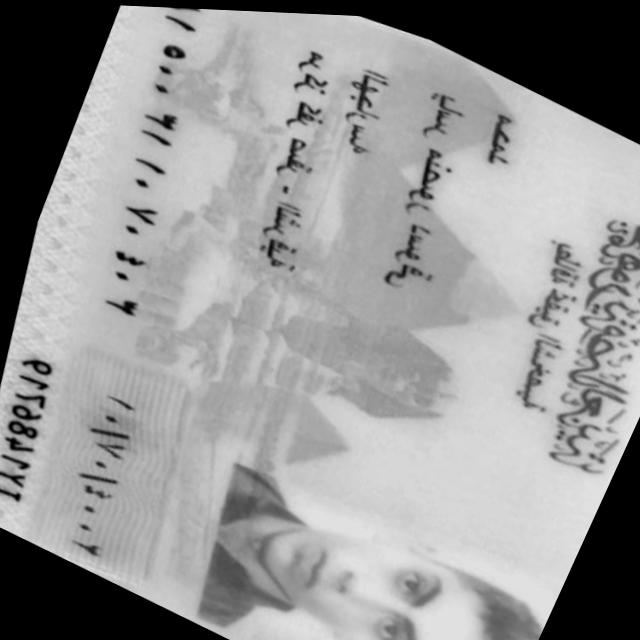front: (0, 5, 640, 640)
